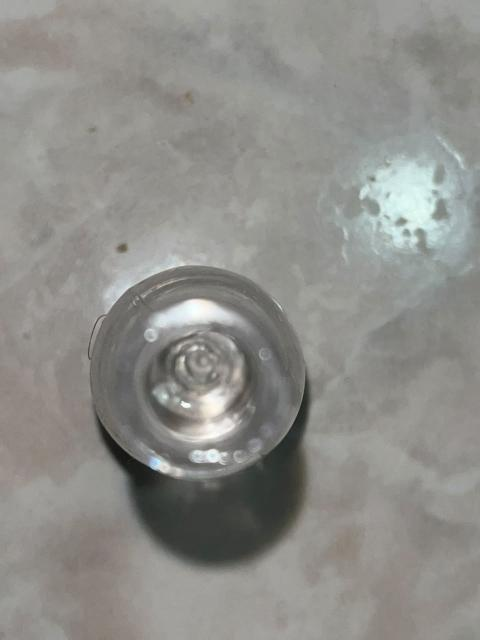PET: (80, 265, 326, 520)
